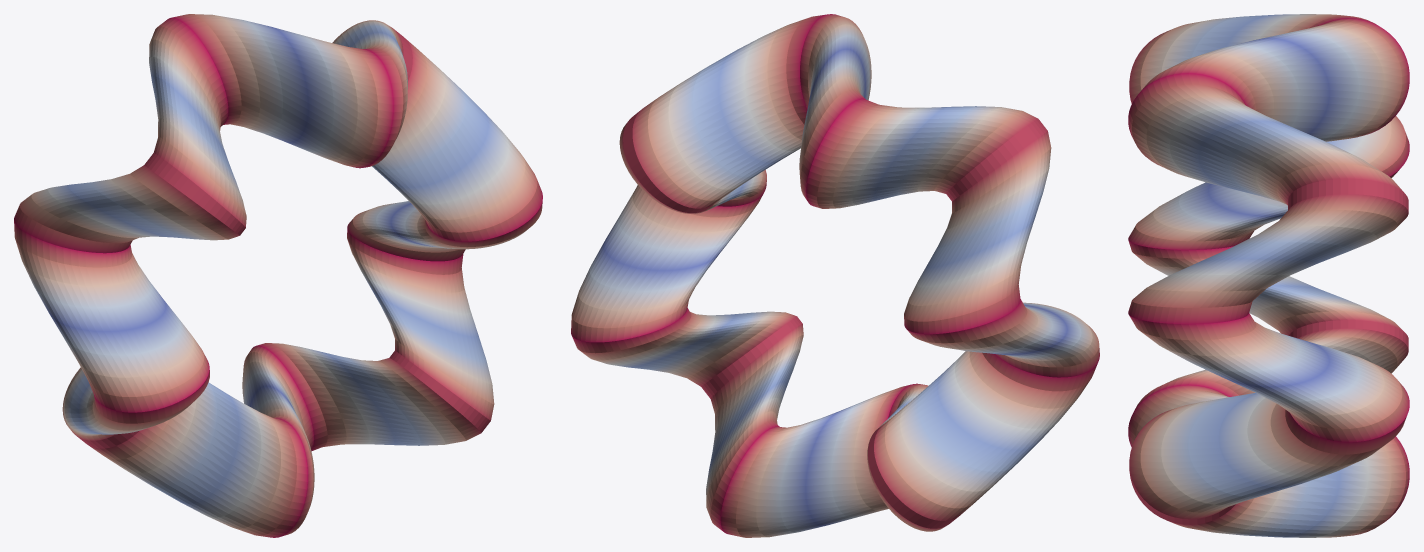
The model's file is step_19.glb.
3 renders of one model, left to right at view 1: azimuth 30°, elevation 25°; view 2: azimuth 150°, elevation 25°; view 3: azimuth 270°, elevation 25°, orthographic.
Visible parts, largest first — view 1: world; view 2: world; view 3: world.
Boxes of the visible parts, bbox=[...] form: world: bbox=[14, 14, 542, 537]; world: bbox=[571, 14, 1099, 537]; world: bbox=[1128, 14, 1409, 537].
Size of the model in its own units: 26 by 26 by 13.97.
